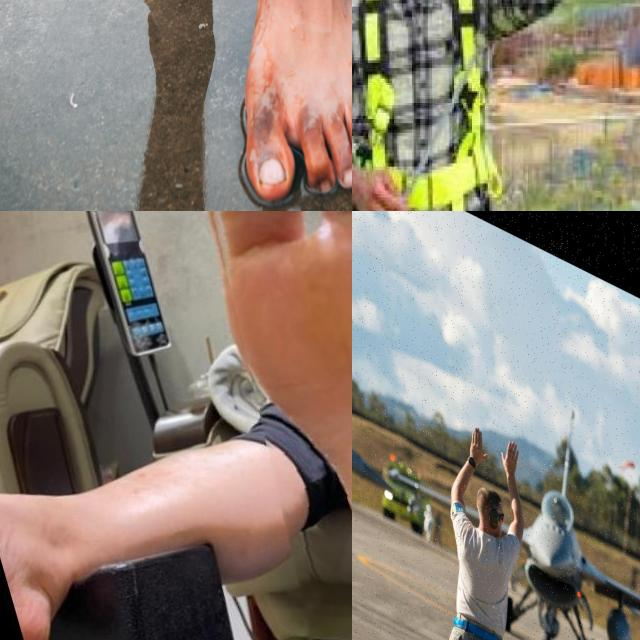Barefoots: (203, 211, 352, 640)
Ear-protection: (465, 464, 508, 533)
Harness: (352, 0, 510, 211)
Sandals: (243, 0, 352, 205)
head_nohelmet: (473, 477, 505, 522)
person: (438, 413, 525, 640)
